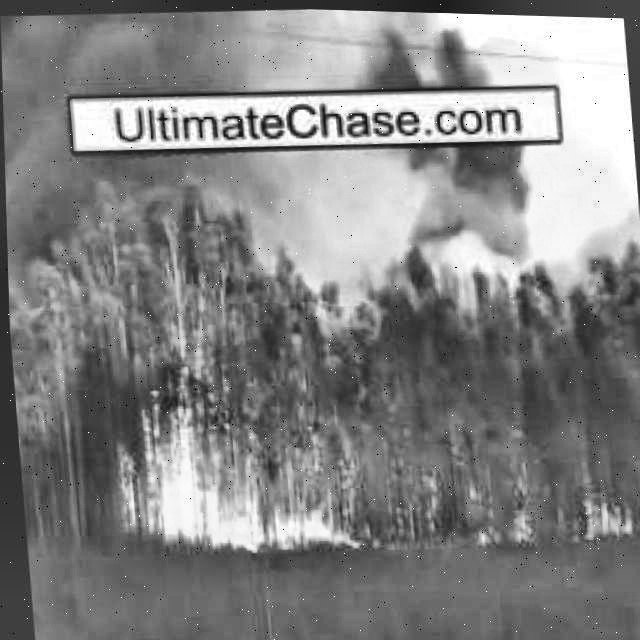Fire: (142, 424, 343, 552), (469, 508, 531, 543), (580, 497, 630, 531)
Smoke: (3, 127, 621, 403), (0, 0, 570, 111)
